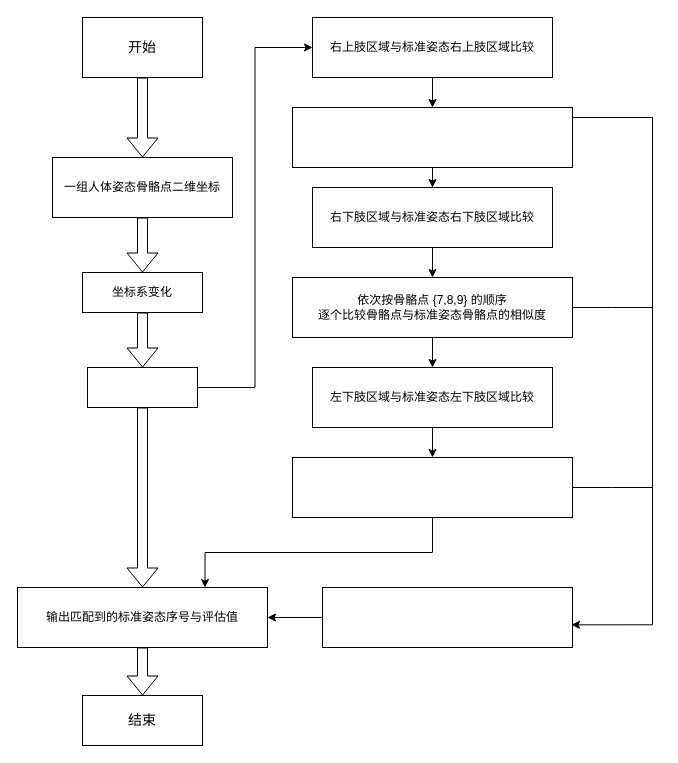
This 678x763 diagram has some shape labels left out. Here are the shapes that lost their labels. From the top down, the box of each, then its label:
(292, 106, 572, 168): 依次按骨骼点 {1,2,3} 的顺序 逐个比较骨骼点与标准姿态骨骼点的相似度
(86, 366, 198, 408): 评估流程
(292, 456, 572, 518): 依次按骨骼点 {10,11.12} 的顺序 逐个比较骨骼点与标准姿态骨骼点的相似度
(322, 586, 572, 648): 记录匹配过程中产生的相似度差值
